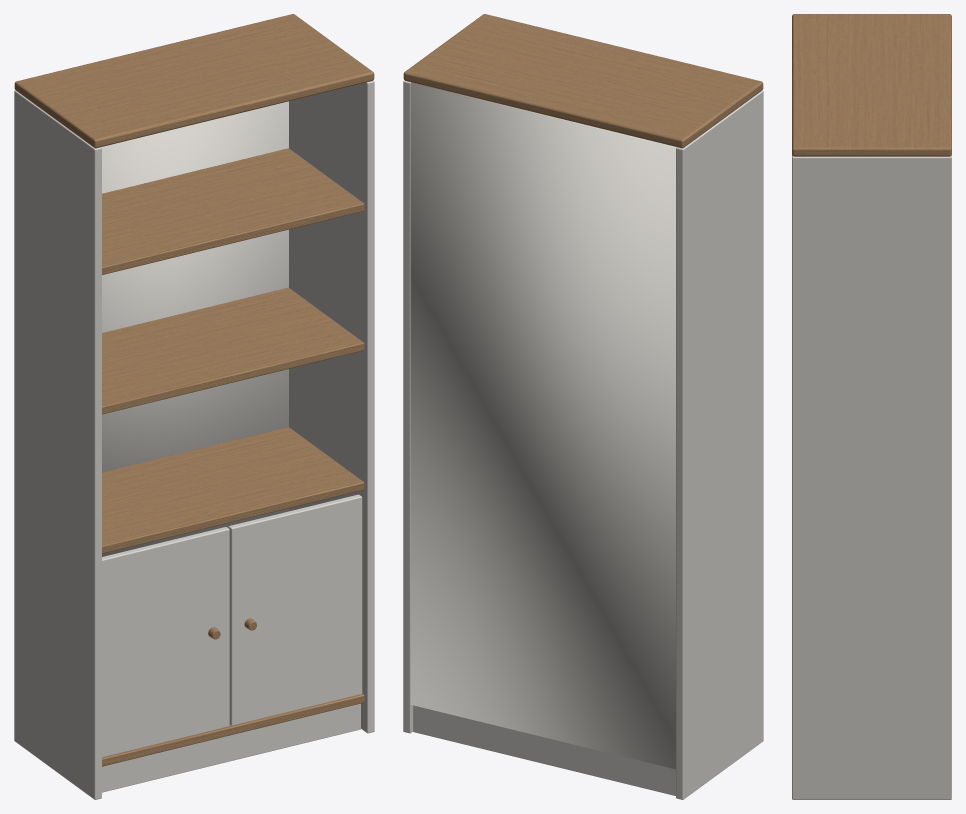
The picture shows the model from 3 angles, left to right: view 1: azimuth 30°, elevation 25°; view 2: azimuth 150°, elevation 25°; view 3: azimuth 270°, elevation 25°; orthographic projection.
Parts seen in each view (by area): view 1: Left side, Back panel, Right side, Door 2, Door 1, Top, Shelf 4, Shelf 2, Shelf 3, Plinth, Shelf 1; view 2: Back panel, Left side, Top, Plinth, Right side; view 3: Right side, Top.
Boxes of the visible parts, x1=… form: Left side: x1=14, y1=90, x2=101, y2=799; Back panel: x1=101, y1=101, x2=288, y2=556; Right side: x1=289, y1=80, x2=374, y2=733; Door 2: x1=228, y1=494, x2=362, y2=725; Door 1: x1=102, y1=527, x2=229, y2=757; Top: x1=14, y1=14, x2=374, y2=148; Shelf 4: x1=102, y1=148, x2=364, y2=274; Shelf 2: x1=102, y1=427, x2=364, y2=553; Shelf 3: x1=102, y1=287, x2=364, y2=414; Plinth: x1=102, y1=703, x2=360, y2=792; Shelf 1: x1=102, y1=693, x2=364, y2=766; Back panel: x1=410, y1=82, x2=676, y2=769; Left side: x1=676, y1=90, x2=763, y2=799; Top: x1=403, y1=14, x2=763, y2=148; Plinth: x1=413, y1=705, x2=675, y2=795; Right side: x1=403, y1=80, x2=413, y2=733; Right side: x1=792, y1=155, x2=951, y2=799; Top: x1=792, y1=14, x2=951, y2=156.
Size of the model in its own units: 0.8 by 1.8 by 0.4.
2 materials, 1 textured.
